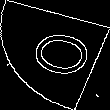O_E: (15, 26, 95, 84)
